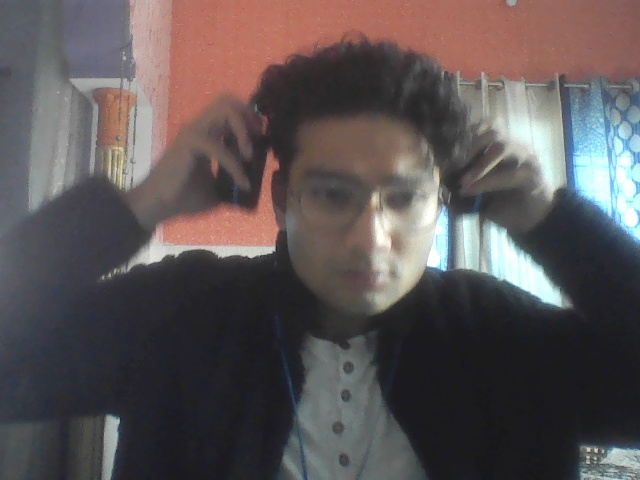real: (248, 42, 456, 337)
